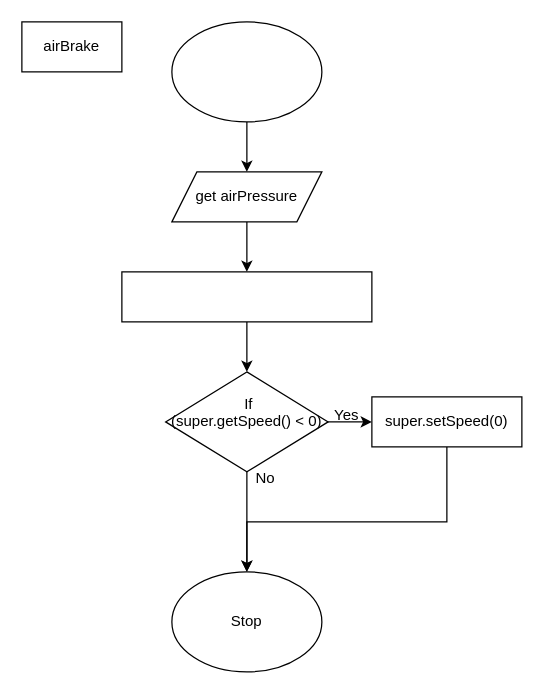
Some shapes in this 544 by 694 pixel diagram are drawn without their labels. The box of each missing label's shape, as (x1, y1, x2, y2) in pixels:
setSpeed(super.getSpeed() - airPressure / 2): (121, 271, 372, 322)
Start: (171, 21, 322, 122)
